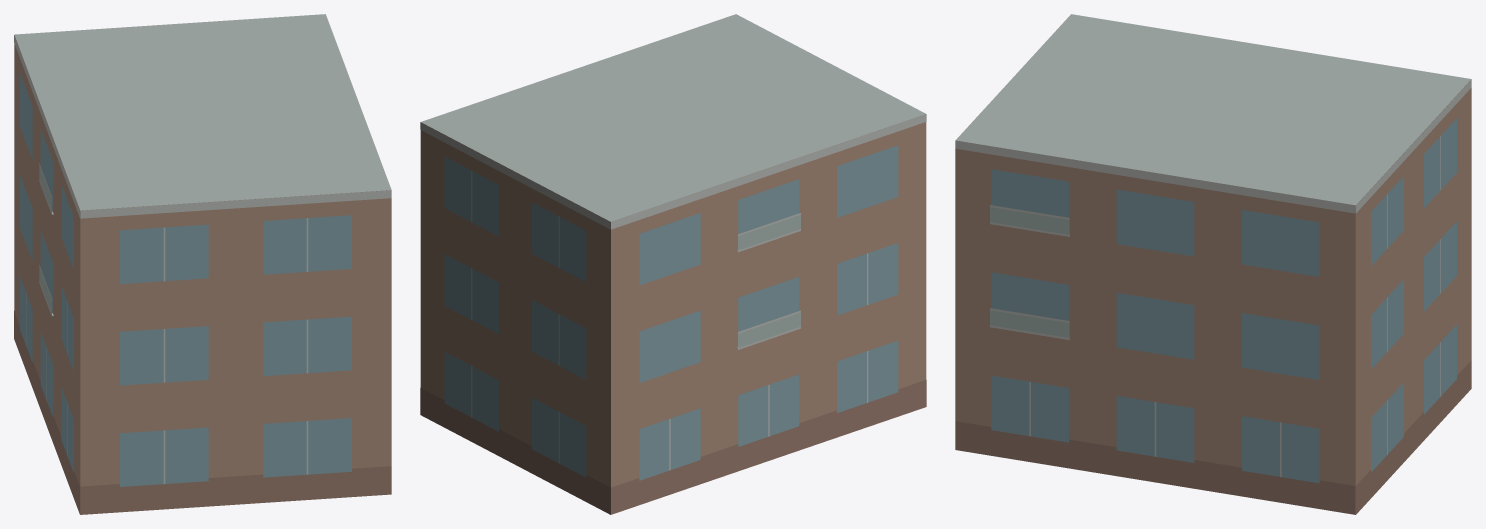
The model's file is survey-upis-32720689.glb.
The picture shows the model from 3 angles, left to right: view 1: azimuth 30°, elevation 25°; view 2: azimuth 150°, elevation 25°; view 3: azimuth 270°, elevation 25°; orthographic projection. The views are drawn at different scales.
Visible parts, largest first — view 1: survey-upis-32720689.tmp; view 2: survey-upis-32720689.tmp; view 3: survey-upis-32720689.tmp.
Boxes of the visible parts, <box> form: survey-upis-32720689.tmp: <box>14,14,391,514</box>; survey-upis-32720689.tmp: <box>420,14,926,514</box>; survey-upis-32720689.tmp: <box>955,14,1471,514</box>.
Bounding box in the file's own units: 12.14 × 9.15 × 13.84.
